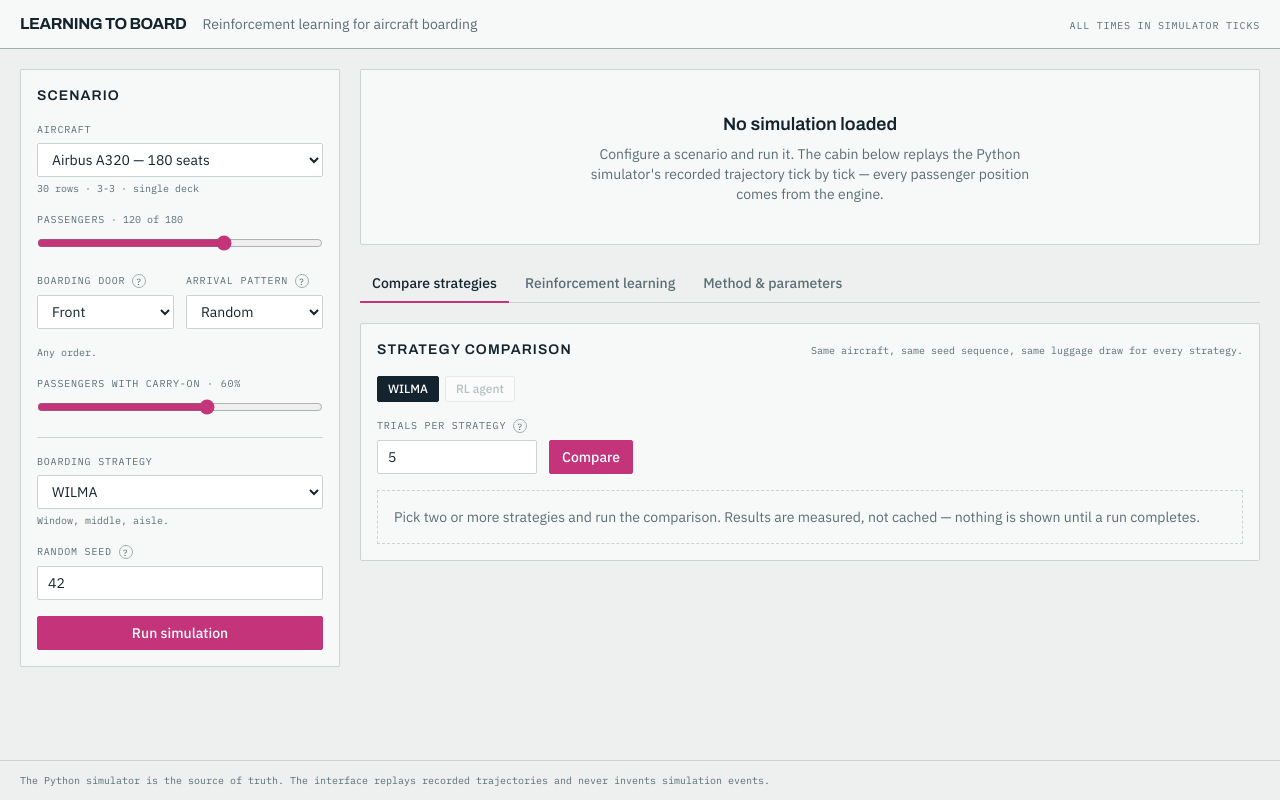
App › surfaces a structured backend validation error
Click the button "Run simulation" at (180, 633), box [37,616,323,650]
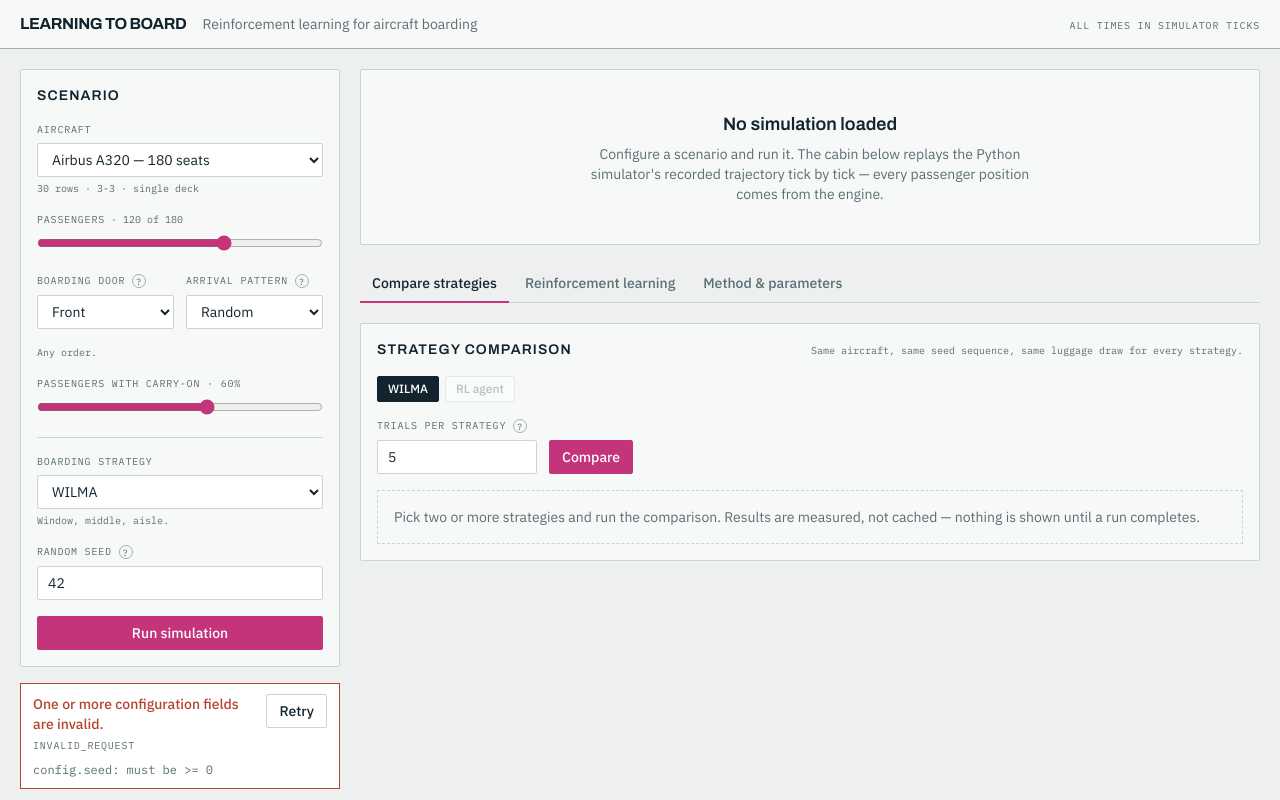
Now the message shows "configuration fields are invalid", box [33,695,239,733]
Now the message shows "config.seed", box [33,762,112,777]
